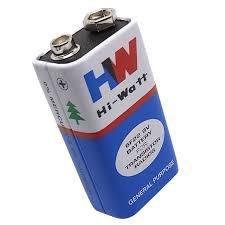9V: (29, 5, 187, 219)
